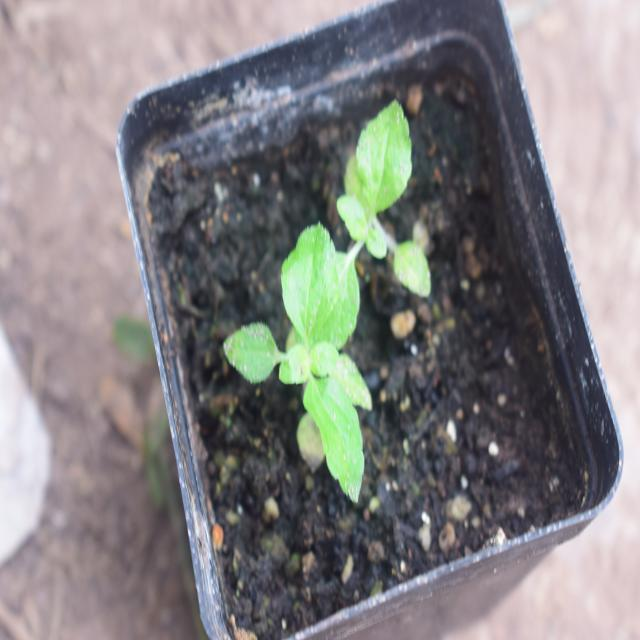billygoat_weed: (233, 236, 389, 525)
